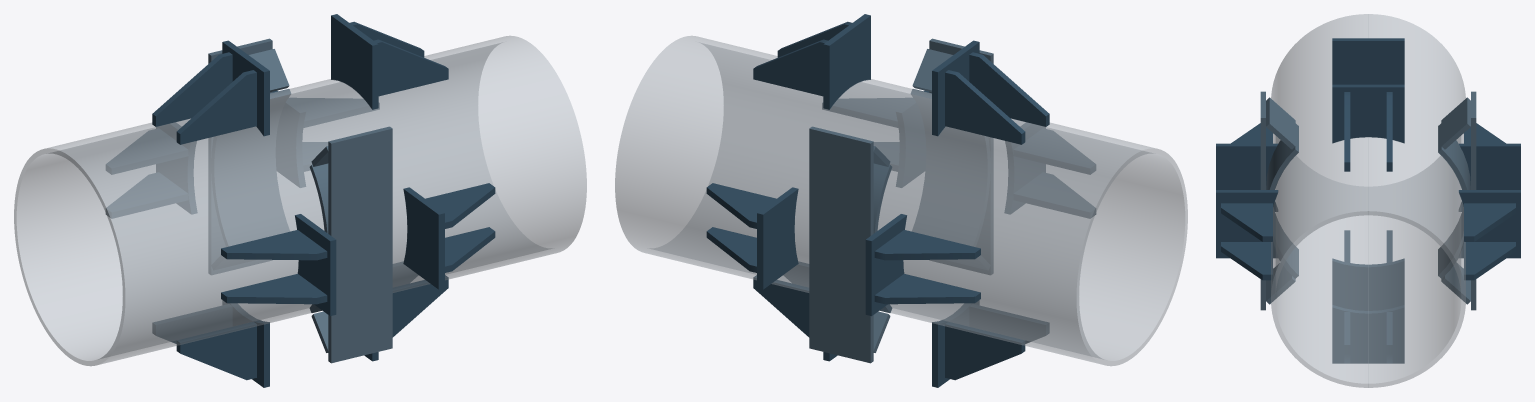
The model's file is TS-668.00.00-13-opora-dn377-ris2.glb.
The picture shows the model from 3 angles, left to right: view 1: azimuth 30°, elevation 25°; view 2: azimuth 150°, elevation 25°; view 3: azimuth 270°, elevation 25°; orthographic projection. The views are drawn at different scales.
Parts seen in each view (by area): view 1: truba, bok_26, bok_29, upor_6, upor_7, upor_1, upor_17, upor_5, upor_3, upor_11, upor_12, upor_10 (+15 smaller); view 2: truba, bok_30, bok_25, upor_5, upor_19, upor_1, upor_18, upor_6, upor_2, upor_24, upor_23, upor_22 (+15 smaller); view 3: truba, upor_1, upor_13, upor_4, upor_16, upor_10, upor_22, upor_7, upor_19, bok_25, bok_29, upor_8 (+15 smaller).
Boxes of the visible parts, x1,y1,x2,y2 form: truba: [14, 35, 586, 366]; bok_26: [328, 126, 392, 363]; bok_29: [211, 89, 291, 246]; upor_6: [176, 70, 256, 144]; upor_7: [403, 187, 444, 289]; upor_1: [331, 14, 378, 109]; upor_17: [176, 322, 256, 380]; upor_5: [152, 52, 232, 126]; upor_3: [374, 39, 448, 96]; upor_11: [221, 230, 327, 260]; upor_12: [221, 273, 327, 304]; upor_10: [295, 214, 336, 316]; truba: [615, 35, 1187, 366]; bok_30: [809, 126, 873, 363]; bok_25: [910, 89, 990, 246]; upor_5: [945, 70, 1025, 144]; upor_19: [757, 187, 798, 289]; upor_1: [823, 14, 870, 109]; upor_18: [945, 322, 1025, 380]; upor_6: [969, 52, 1049, 126]; upor_2: [753, 39, 827, 96]; upor_24: [874, 230, 980, 260]; upor_23: [874, 273, 980, 304]; upor_22: [865, 214, 906, 316]; truba: [1271, 14, 1465, 387]; upor_1: [1332, 84, 1404, 143]; upor_13: [1332, 305, 1404, 363]; upor_4: [1332, 38, 1404, 84]; upor_16: [1332, 258, 1404, 310]; upor_10: [1216, 143, 1277, 211]; upor_22: [1459, 143, 1520, 211]; upor_7: [1216, 190, 1278, 258]; upor_19: [1458, 190, 1520, 258]; bok_25: [1266, 123, 1298, 278]; bok_29: [1438, 123, 1470, 278]; upor_8: [1221, 203, 1272, 241].
Bounding box in the file's own units: 901 × 589 × 589.
